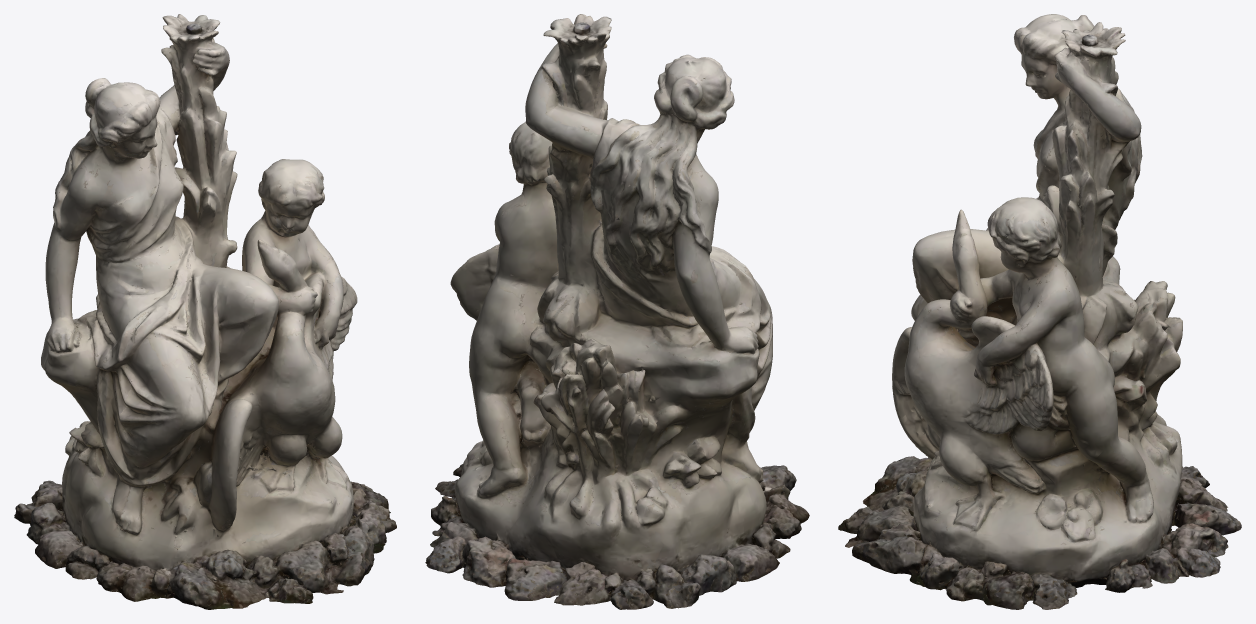
Rendered from preview.glb.
3 renders of one model, left to right at view 1: azimuth 30°, elevation 25°; view 2: azimuth 150°, elevation 25°; view 3: azimuth 270°, elevation 25°, orthographic. The views are drawn at different scales.
Visible parts, largest first — view 1: Object_2; view 2: Object_2; view 3: Object_2.
Part boxes in pixels (x1,y1,x2,y2): Object_2: (14, 14, 396, 609); Object_2: (425, 14, 809, 609); Object_2: (838, 14, 1241, 609).
Size of the model in its own units: 1.23 by 1.78 by 1.31.
1 material, 1 textured.
